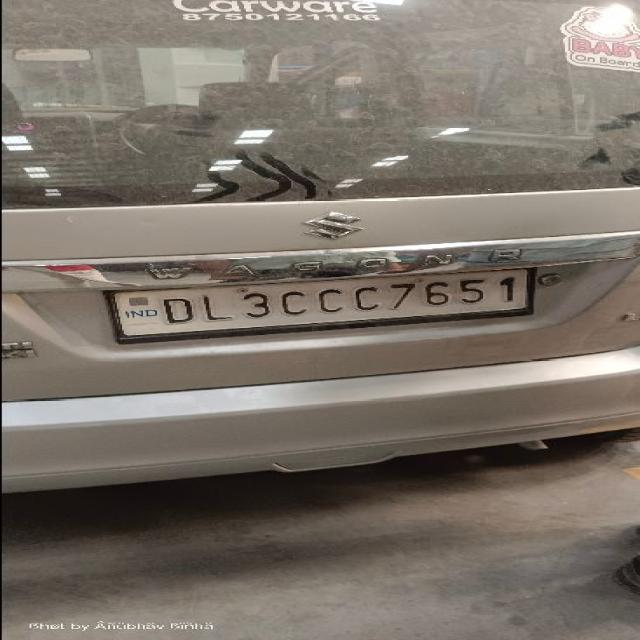license_plate: (103, 265, 537, 344)
